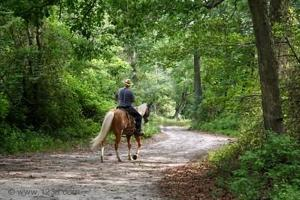person: (116, 78, 146, 138)
